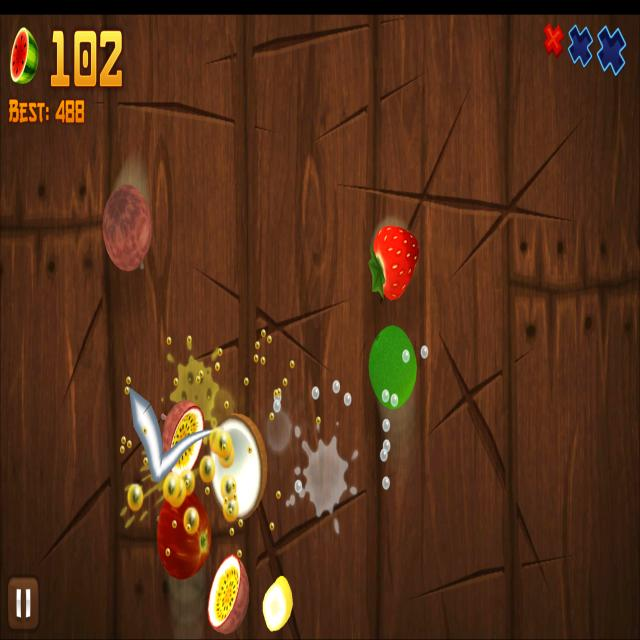fruit: (157, 492, 211, 579), (104, 185, 152, 272), (369, 326, 417, 411), (374, 226, 419, 301)
